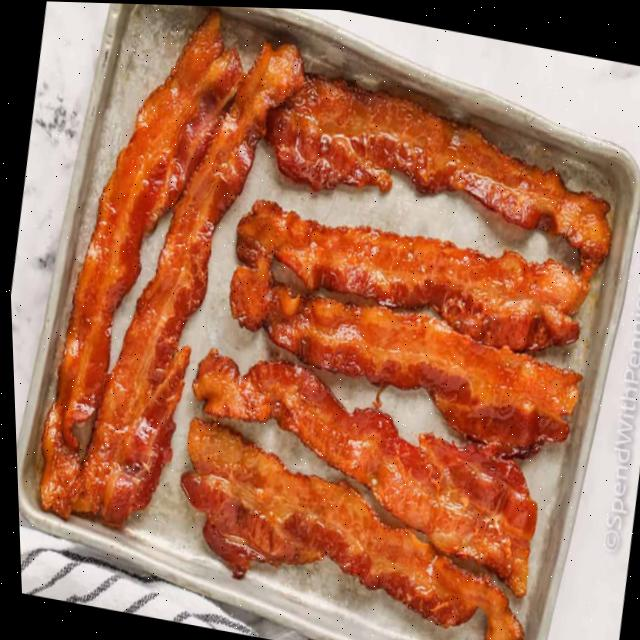Bacon: (36, 11, 608, 640)
